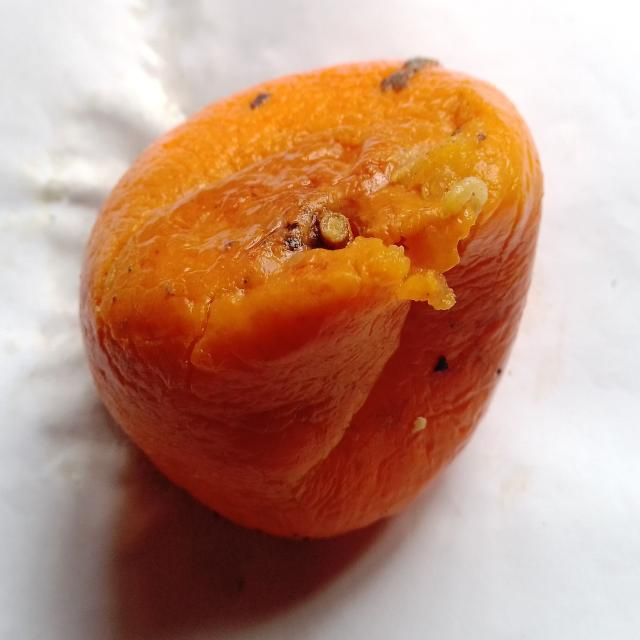orange: (82, 59, 542, 537)
